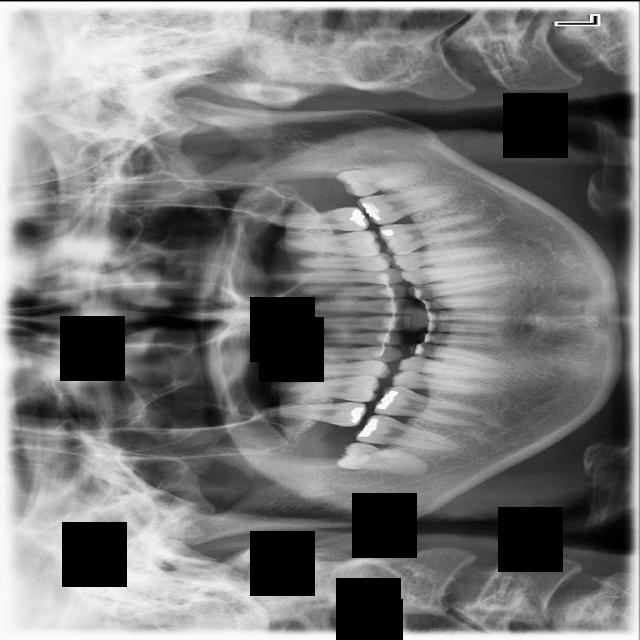52: (353, 182, 407, 236), (352, 402, 405, 456), (370, 375, 420, 427), (375, 213, 423, 261), (326, 400, 368, 427), (329, 205, 370, 232)
73: (576, 34, 596, 40)
BioHorizons Implant: (265, 203, 371, 231)
Biomet 3i Implant: (335, 152, 435, 202)
Blue Sky Bio Implant: (355, 180, 465, 228)
Caries: (264, 401, 367, 426)
Implant: (353, 411, 467, 454)
Keystone Dental Implant: (336, 439, 440, 479)
